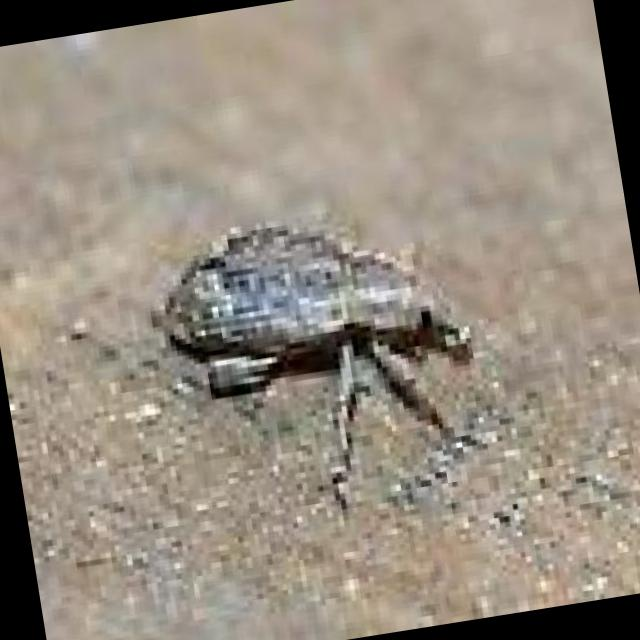rice-bug: (150, 192, 486, 464)
